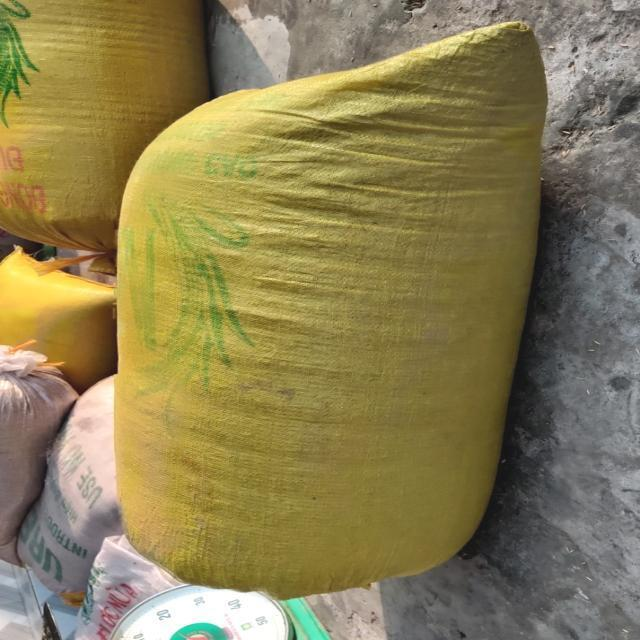gunny_bag: (114, 21, 547, 599)
